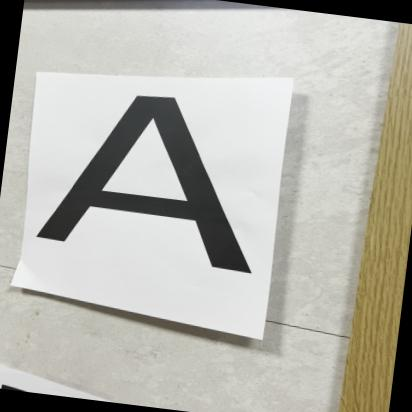seat: (20, 72, 277, 304)
